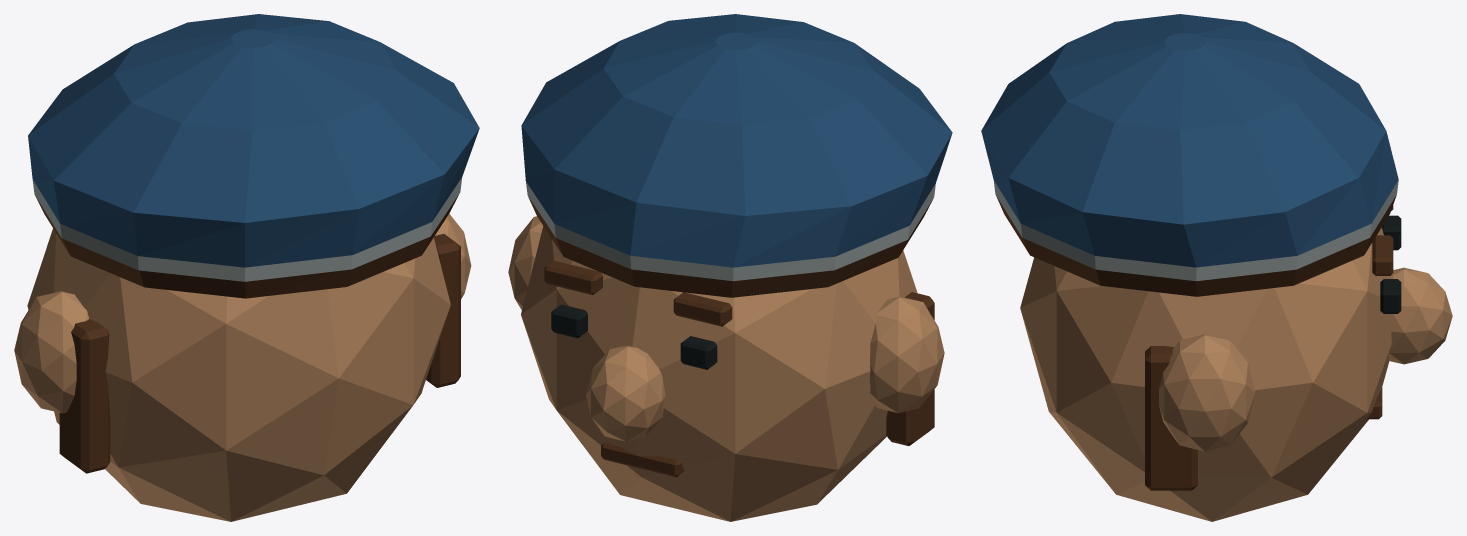
The model's file is Head.glb.
3 renders of one model, left to right at view 1: azimuth 30°, elevation 25°; view 2: azimuth 150°, elevation 25°; view 3: azimuth 270°, elevation 25°, orthographic. The views are drawn at different scales.
Parts seen in each view (by area): view 1: Sculpture; view 2: Sculpture; view 3: Sculpture.
Part boxes in pixels (x1=…): Sculpture: x1=14, y1=14, x2=479, y2=521; Sculpture: x1=508, y1=14, x2=952, y2=521; Sculpture: x1=981, y1=14, x2=1452, y2=521.
Bounding box in the file's own units: 0.554 × 0.578 × 0.533.
